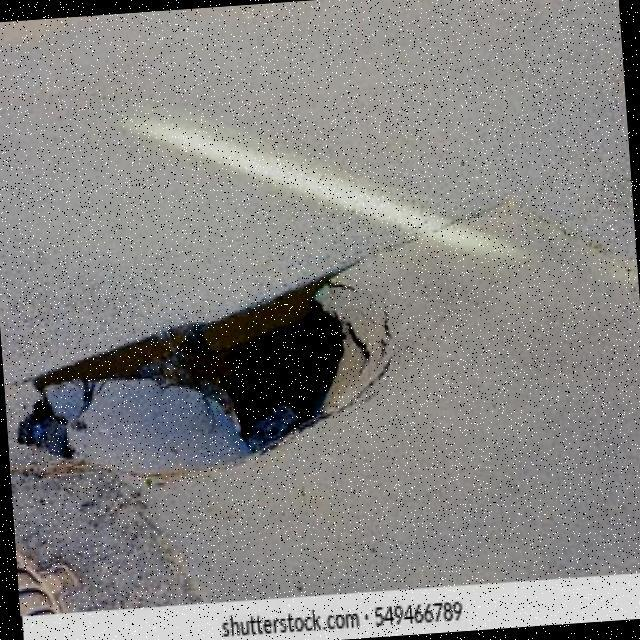Pothole: (17, 272, 387, 482)
